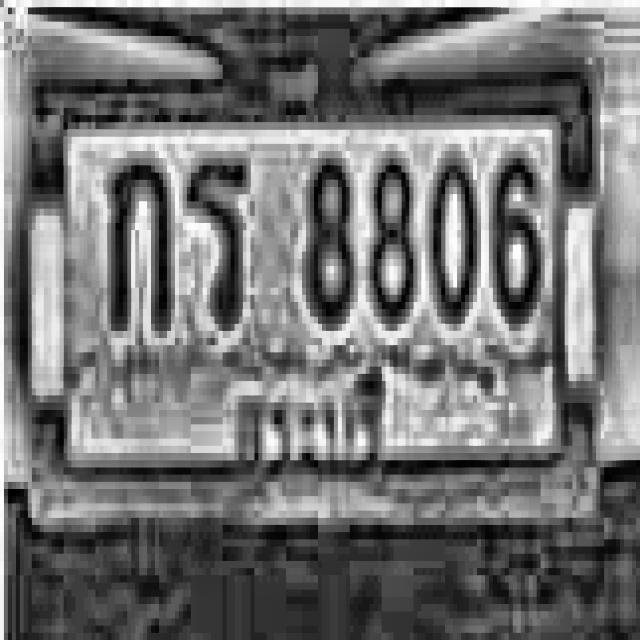license-plate: (21, 66, 616, 547)
